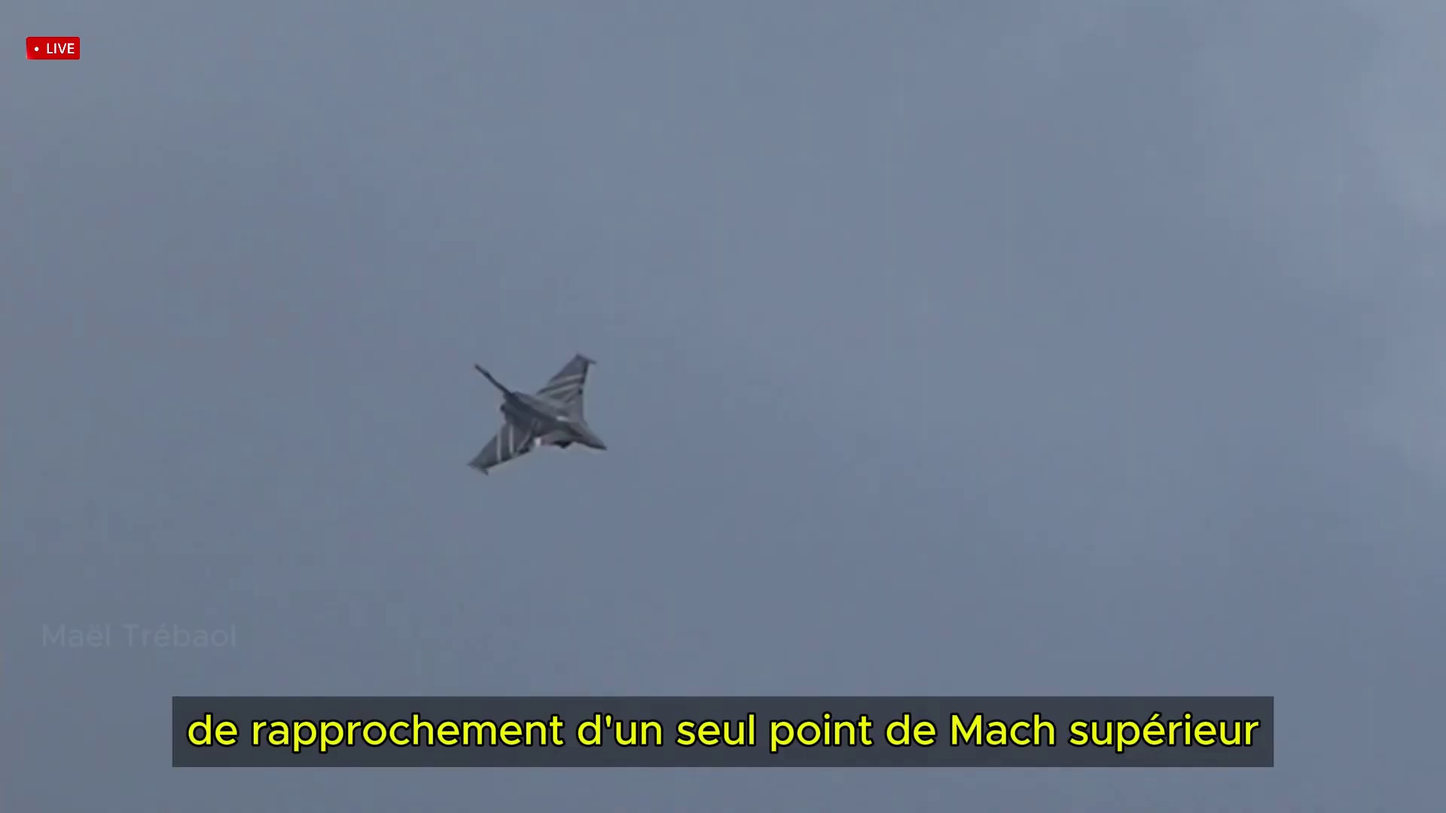Rafale: (461, 347, 613, 477)
